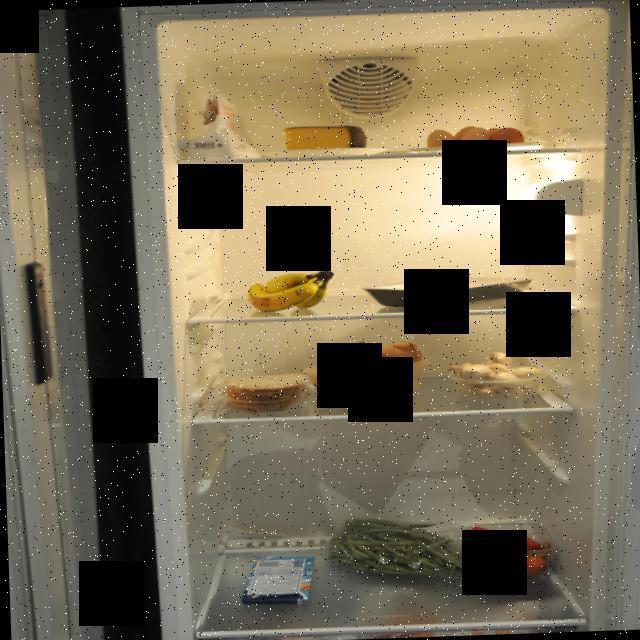banana: (243, 268, 339, 316)
bread: (220, 370, 312, 415)
cheese: (279, 122, 371, 156)
chocolate: (238, 552, 318, 608)
eggs: (422, 121, 528, 154)
flour: (180, 89, 264, 160)
green_beans: (326, 513, 474, 585)
mushrooms: (446, 348, 549, 400)
onion: (306, 338, 428, 402)
strawberries: (468, 520, 551, 586)
